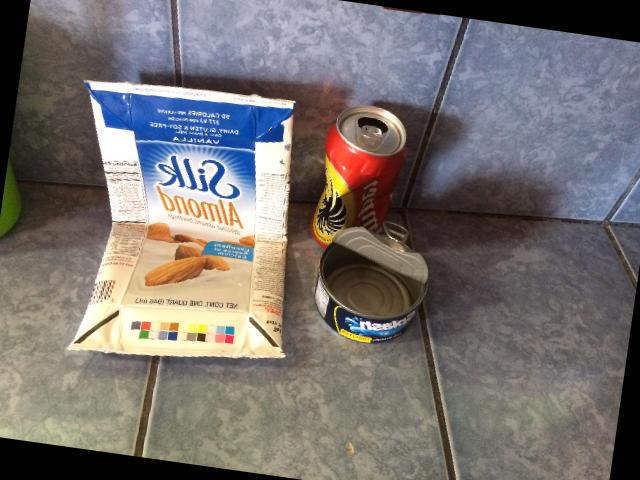metal: (311, 106, 408, 248), (315, 222, 428, 343)
